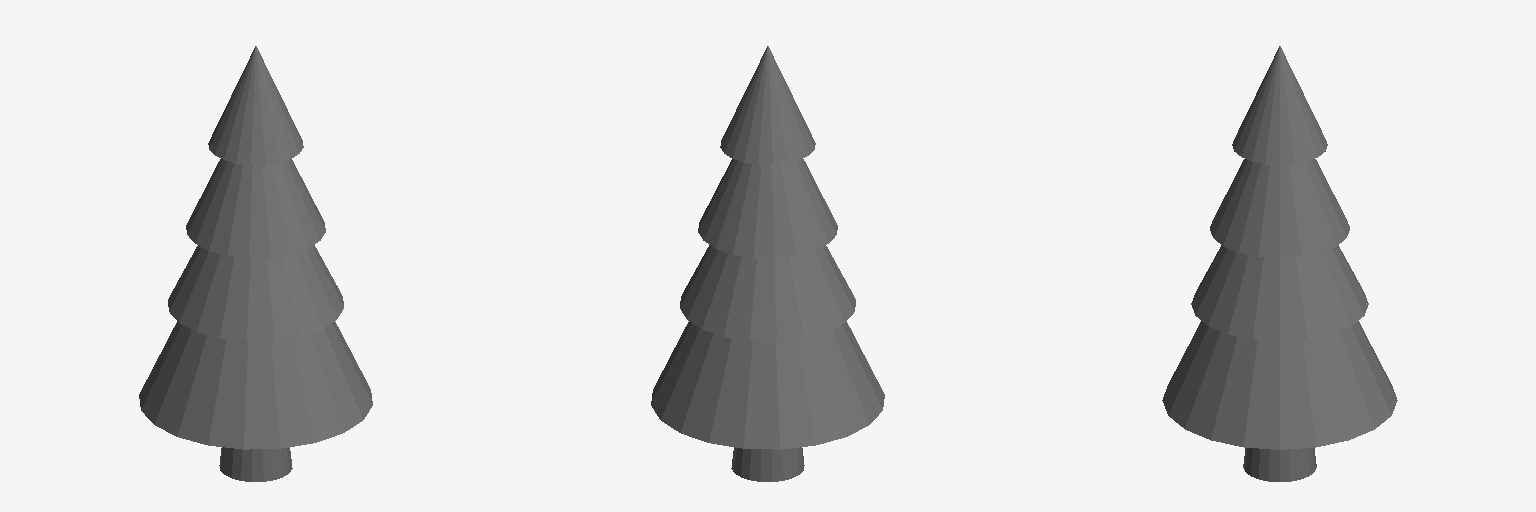
The model's file is pine_Tree.obj.
The picture shows the model from 3 angles: view 1: azimuth 30°, elevation 25°; view 2: azimuth 150°, elevation 25°; view 3: azimuth 270°, elevation 25°; orthographic projection.
Parts seen in each view (by area): view 1: pine_Tree:pCylinder1; view 2: pine_Tree:pCylinder1; view 3: pine_Tree:pCylinder1.
Part boxes in pixels (bbox=[...]): pine_Tree:pCylinder1: bbox=[139, 46, 372, 481]; pine_Tree:pCylinder1: bbox=[651, 46, 884, 481]; pine_Tree:pCylinder1: bbox=[1162, 46, 1397, 481].
Size of the model in its own units: 6.4 by 12.65 by 6.4.